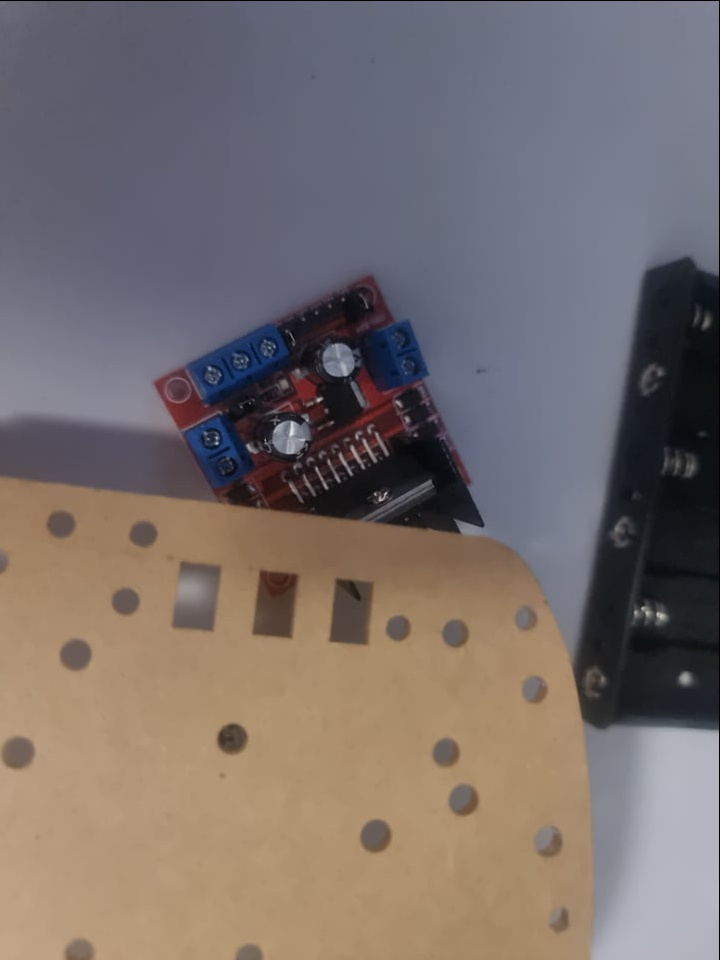BATTERY BOX: (577, 253, 720, 750)
MOTOR: (154, 274, 492, 583)
